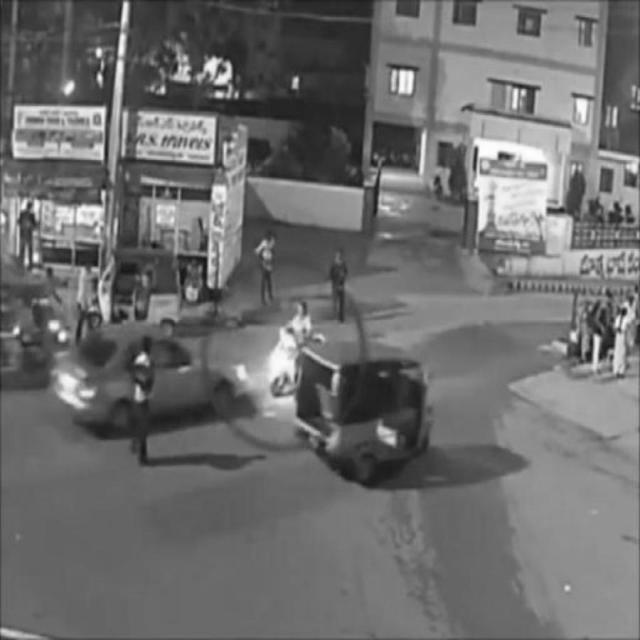person: (128, 339, 154, 463), (258, 235, 278, 311), (330, 250, 346, 323)
vehicle: (57, 325, 247, 426), (303, 352, 431, 476), (90, 252, 183, 335), (266, 304, 327, 397)
